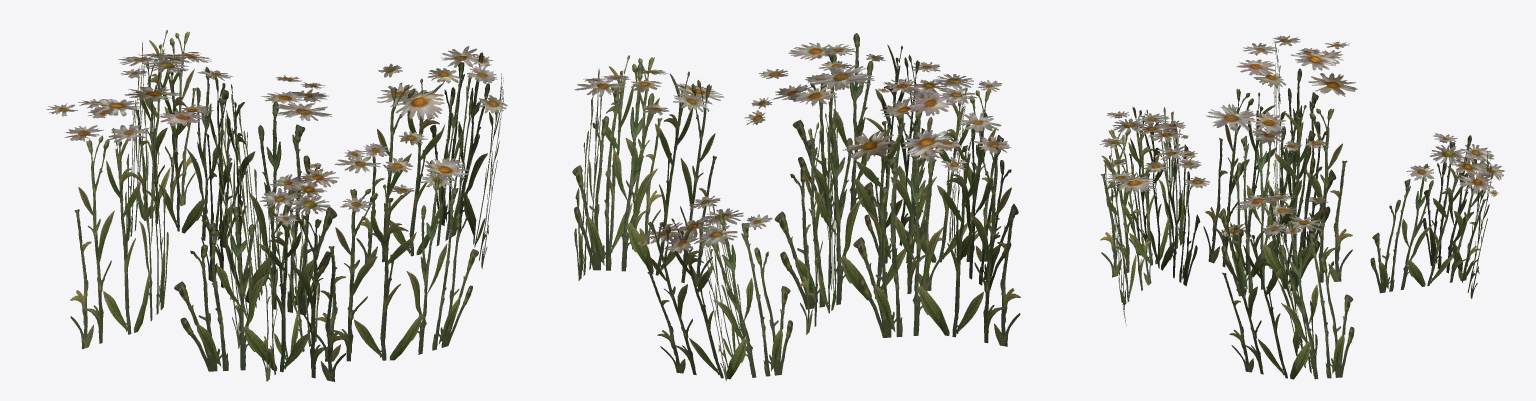
Rendered from bg_anh_foliage_te_f29_sm_old.FBX.
The picture shows the model from 3 angles, left to right: view 1: azimuth 30°, elevation 25°; view 2: azimuth 150°, elevation 25°; view 3: azimuth 270°, elevation 25°; orthographic projection. The views are drawn at different scales.
Parts seen in each view (by area): view 1: bg_anh_foliage_te_f29_sm_old; view 2: bg_anh_foliage_te_f29_sm_old; view 3: bg_anh_foliage_te_f29_sm_old.
Part boxes in pixels (left/top/right/bottom): bg_anh_foliage_te_f29_sm_old: left=46, top=30, right=507, bottom=381; bg_anh_foliage_te_f29_sm_old: left=572, top=33, right=1020, bottom=380; bg_anh_foliage_te_f29_sm_old: left=1099, top=35, right=1504, bottom=379.
Bounding box in the file's own units: 125 × 56.86 × 122.
